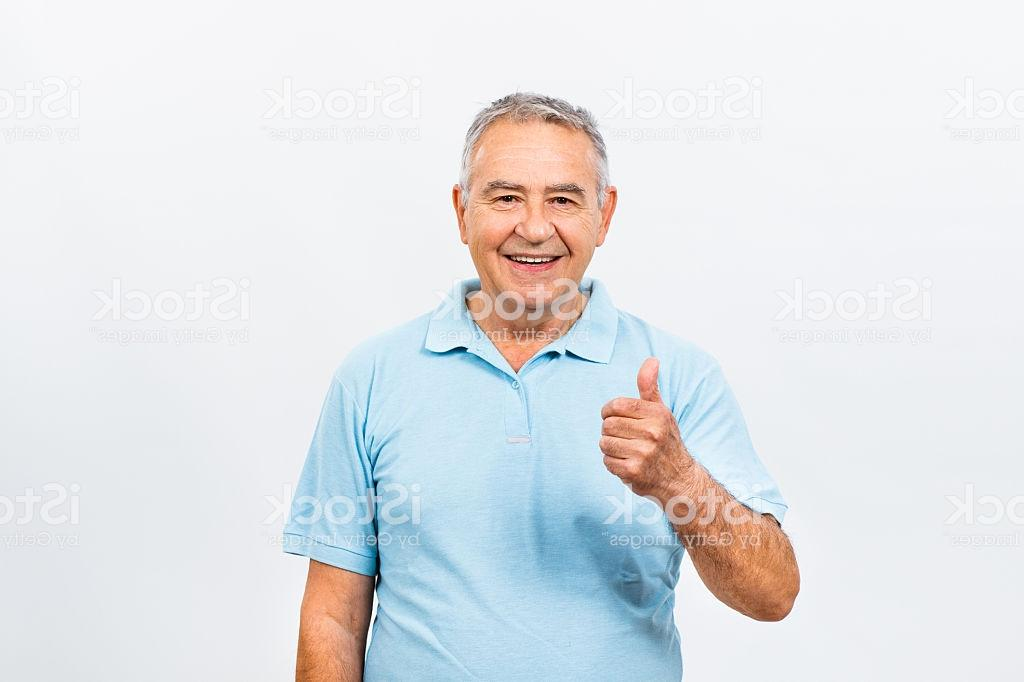thumbsup: (597, 352, 681, 502)
